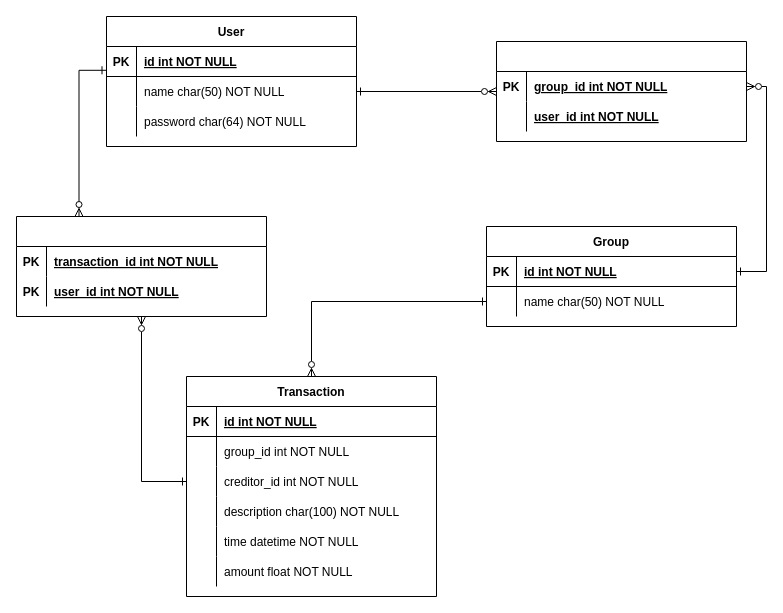
The diagram is 783 pixels wide and 613 high, and some of its shapes have lost their labels. Each missing label, with the box of its shape:
Debtor: (16, 216, 266, 316)
Group_User: (496, 40, 746, 142)
